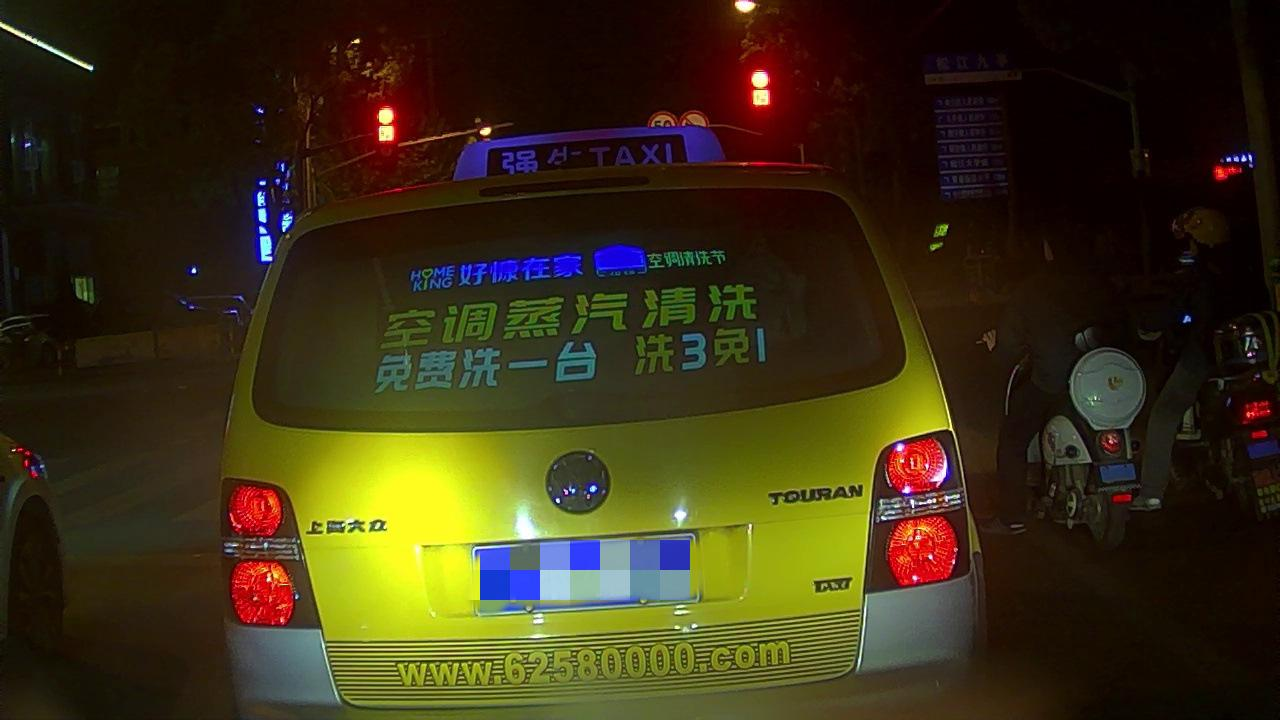traffic_light: (749, 67, 774, 114), (375, 106, 398, 147)
